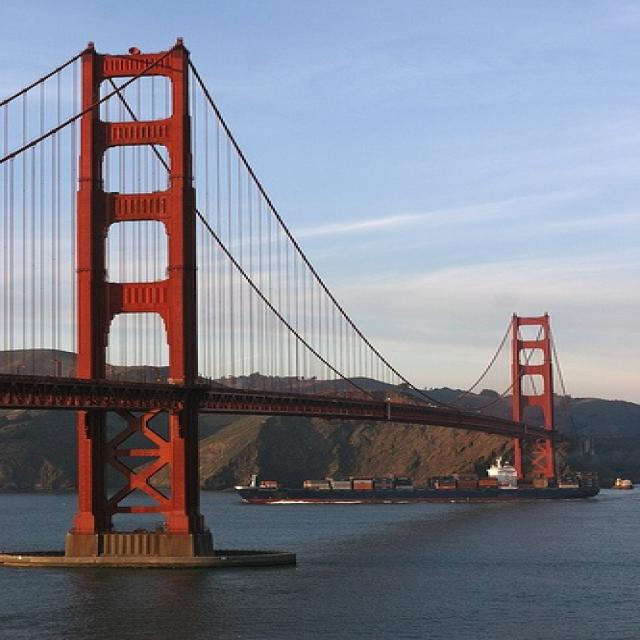boat: (230, 454, 602, 503)
